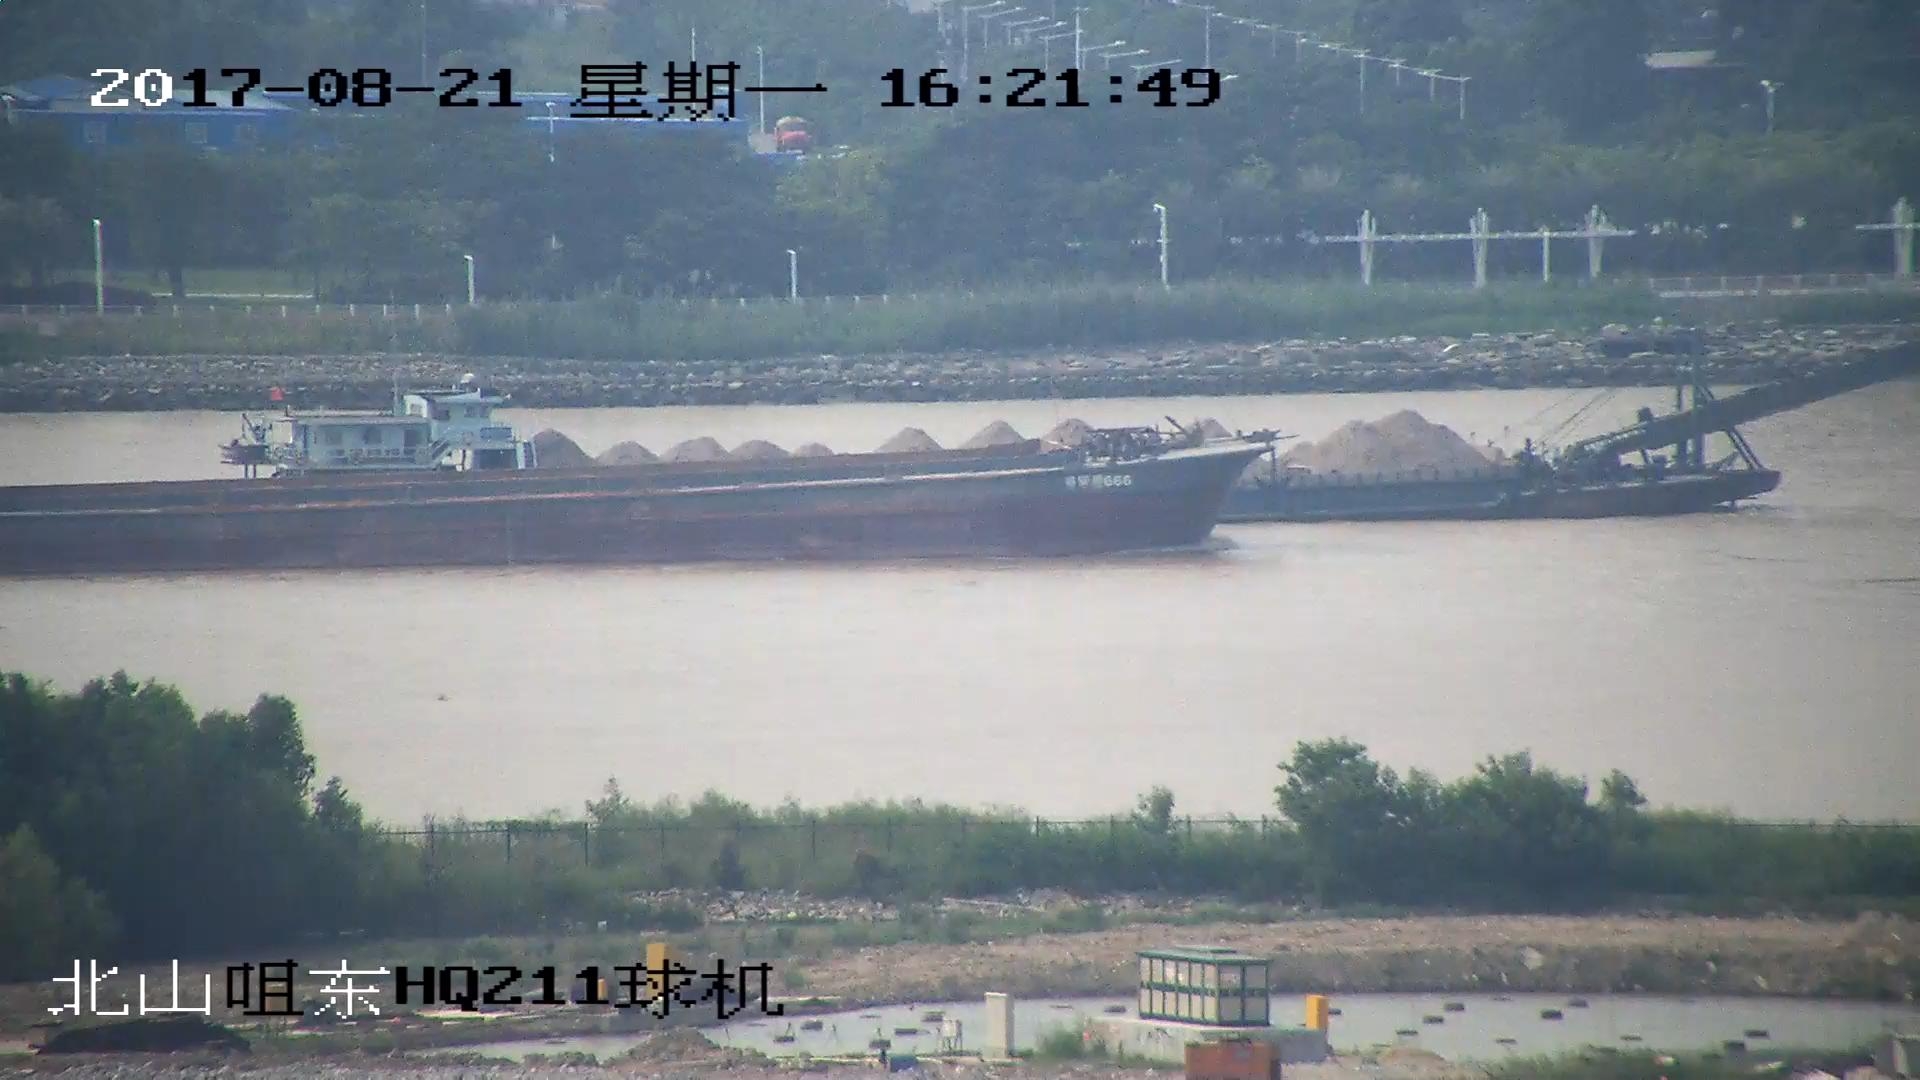bulk cargo carrier: (1, 431, 1274, 579)
ore carrier: (227, 356, 1920, 527)
